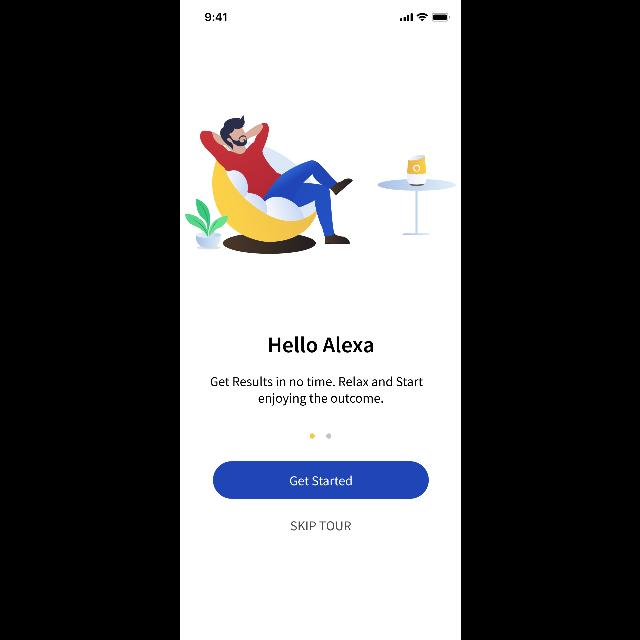image: (184, 116, 456, 254)
pageindicator: (309, 433, 331, 439)
text: (210, 376, 422, 406), (268, 336, 374, 352), (290, 522, 350, 530)
textbutton: (212, 461, 428, 499)
uppertaskbar: (204, 12, 450, 22)
